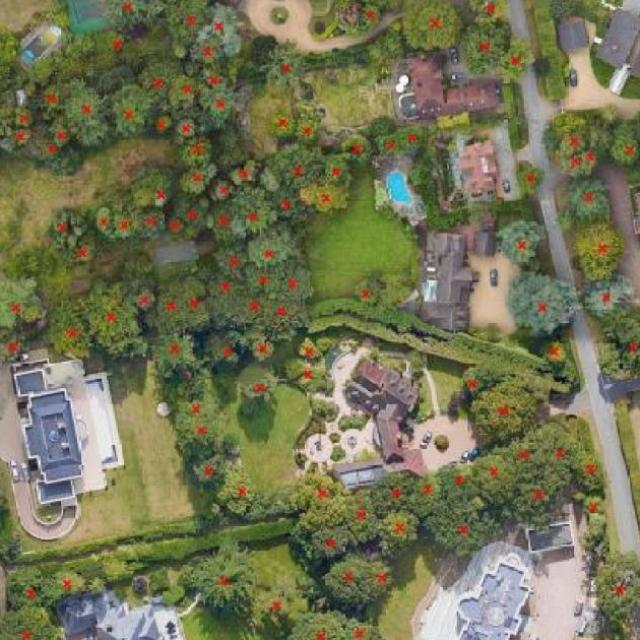tree: (178, 534, 262, 619), (423, 490, 512, 560), (464, 373, 545, 443), (503, 268, 584, 338), (84, 278, 150, 359), (278, 460, 356, 525), (570, 212, 632, 286), (58, 70, 114, 149), (585, 546, 640, 624), (245, 216, 308, 282), (262, 133, 331, 193), (490, 210, 552, 276), (505, 472, 568, 536), (396, 0, 463, 59), (556, 168, 618, 230), (358, 467, 421, 528), (333, 478, 387, 548), (82, 22, 146, 80), (44, 296, 100, 362), (254, 38, 315, 98), (579, 264, 638, 323), (163, 411, 236, 458), (216, 459, 266, 525), (459, 24, 514, 84), (143, 324, 202, 379), (0, 264, 46, 334), (318, 550, 374, 606), (197, 1, 250, 60), (156, 375, 230, 417), (126, 156, 181, 210), (195, 320, 244, 380), (280, 352, 336, 404), (200, 266, 245, 330), (373, 502, 428, 554), (251, 294, 314, 339), (133, 50, 185, 104), (228, 356, 284, 406), (0, 600, 69, 640), (158, 0, 214, 48), (108, 82, 154, 140), (278, 605, 350, 640), (603, 319, 640, 386), (503, 432, 555, 478), (430, 457, 480, 504), (0, 23, 31, 98), (496, 28, 536, 86), (296, 179, 358, 216), (184, 448, 236, 492), (570, 441, 613, 494), (98, 0, 166, 33), (465, 448, 517, 491), (358, 554, 401, 604), (374, 271, 424, 314), (5, 562, 54, 605), (152, 268, 185, 331), (278, 258, 317, 311), (300, 521, 352, 559), (50, 563, 92, 610), (179, 274, 213, 332), (200, 83, 242, 129), (595, 332, 630, 387), (336, 125, 378, 170), (201, 198, 239, 247), (175, 159, 218, 202), (185, 32, 228, 75), (461, 0, 517, 33), (411, 468, 448, 516), (166, 69, 203, 117), (257, 106, 301, 145), (175, 131, 220, 169), (580, 508, 612, 561), (238, 263, 282, 301), (449, 362, 498, 396), (239, 193, 279, 234), (348, 269, 386, 312), (249, 586, 294, 622), (573, 483, 614, 522), (0, 327, 42, 365), (511, 155, 549, 196), (602, 132, 640, 173), (336, 611, 389, 640), (221, 153, 264, 188), (315, 153, 355, 190), (550, 426, 584, 469), (533, 332, 577, 365), (26, 136, 64, 172), (44, 109, 79, 148), (211, 244, 246, 282), (90, 197, 120, 241), (137, 199, 169, 240), (0, 126, 37, 161), (137, 561, 177, 593), (37, 74, 66, 118), (232, 288, 263, 329), (121, 249, 158, 283), (290, 112, 327, 146), (355, 0, 389, 36), (6, 101, 39, 138), (268, 186, 302, 221), (293, 330, 326, 365), (549, 152, 582, 187), (553, 121, 589, 152), (122, 284, 159, 314), (206, 170, 236, 207), (426, 425, 458, 459), (397, 121, 429, 155), (170, 111, 201, 146), (247, 332, 276, 369), (16, 297, 49, 328), (68, 234, 98, 268), (370, 132, 404, 162), (201, 62, 233, 93), (153, 583, 188, 611), (580, 141, 608, 176), (177, 195, 206, 227), (114, 207, 139, 244), (160, 211, 188, 239), (148, 106, 175, 134), (128, 569, 151, 598), (47, 207, 71, 234)
